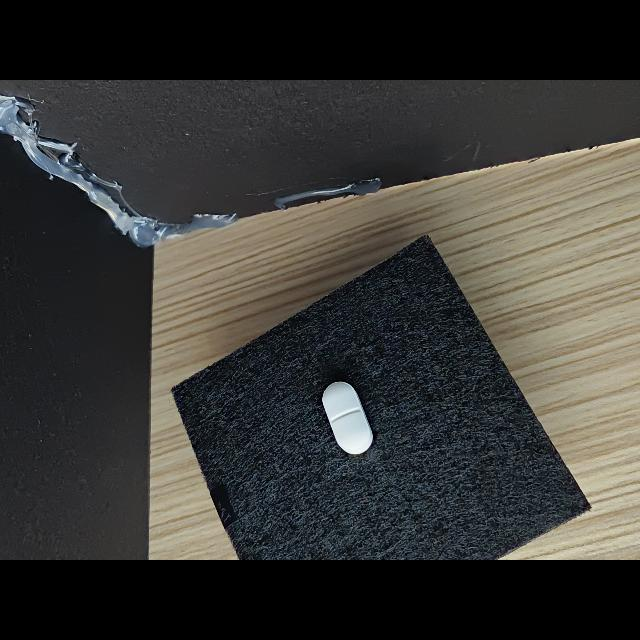Intact Pill: (322, 381, 373, 454)
